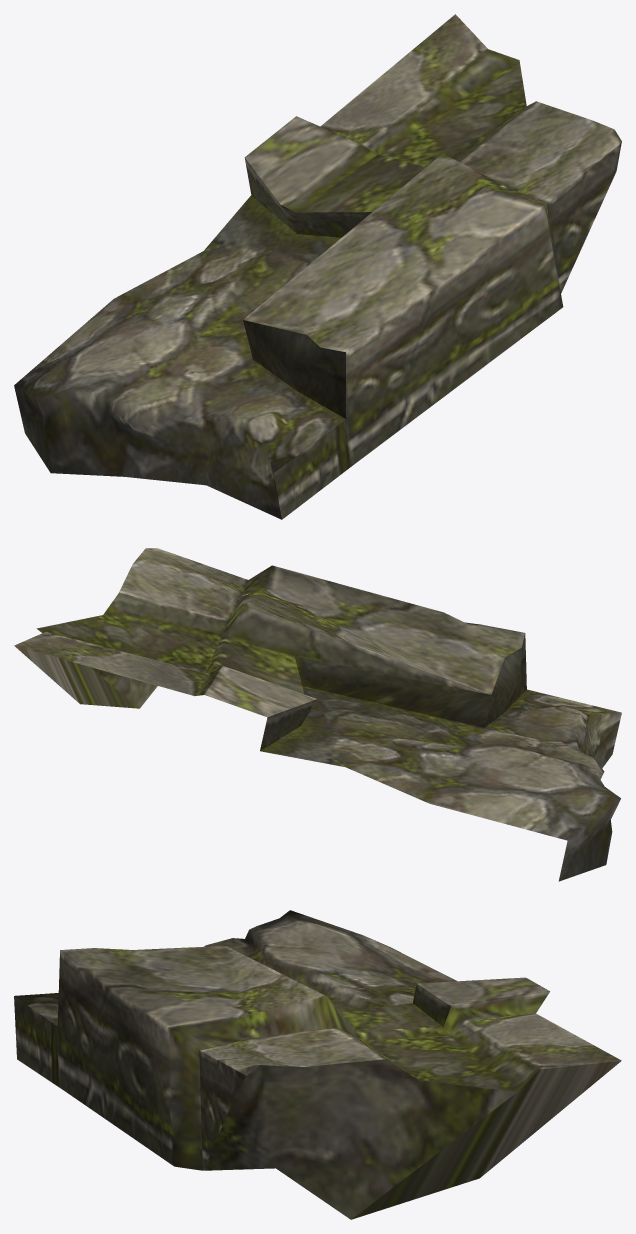
The model's file is 4009_Item_qiang_broken_2.FBX.
The picture shows the model from 3 angles, top to bottom: view 1: azimuth 30°, elevation 25°; view 2: azimuth 150°, elevation 25°; view 3: azimuth 270°, elevation 25°; orthographic projection. The views are drawn at different scales.
Parts seen in each view (by area): view 1: 4009_Item_qiang_broken_2; view 2: 4009_Item_qiang_broken_2; view 3: 4009_Item_qiang_broken_2.
Part boxes in pixels (x1,y1,x2,y2): 4009_Item_qiang_broken_2: (14,14,621,519); 4009_Item_qiang_broken_2: (14,548,621,881); 4009_Item_qiang_broken_2: (14,910,621,1219).
Size of the model in its own units: 372 by 137 by 290.
